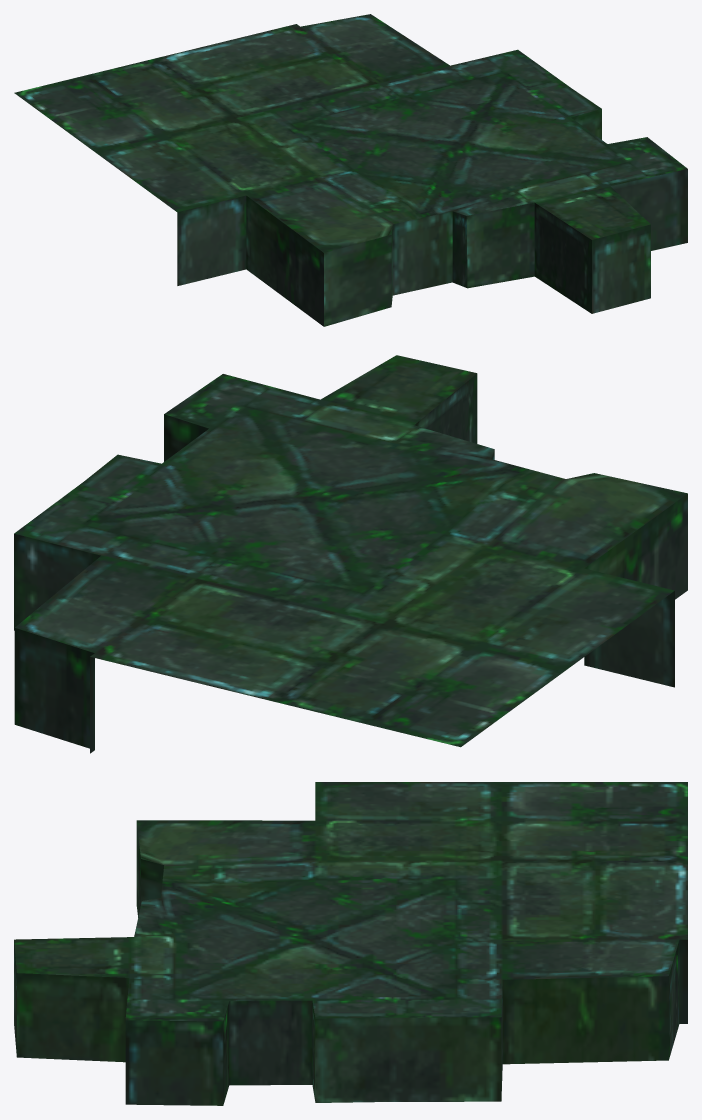
The model's file is stemple_floor_concave_noshadow_03.fbx.
The picture shows the model from 3 angles, top to bottom: view 1: azimuth 30°, elevation 25°; view 2: azimuth 150°, elevation 25°; view 3: azimuth 270°, elevation 25°; orthographic projection. The views are drawn at different scales.
Parts seen in each view (by area): view 1: sunken_tileset/sunken_floor02_mat; view 2: sunken_tileset/sunken_floor02_mat; view 3: sunken_tileset/sunken_floor02_mat.
Boxes of the visible parts, x1,y1,x2,y2 form: sunken_tileset/sunken_floor02_mat: (14, 14, 687, 326); sunken_tileset/sunken_floor02_mat: (14, 355, 687, 753); sunken_tileset/sunken_floor02_mat: (14, 782, 687, 1105).
Size of the model in its own units: 3.04 by 0.5 by 3.62.
